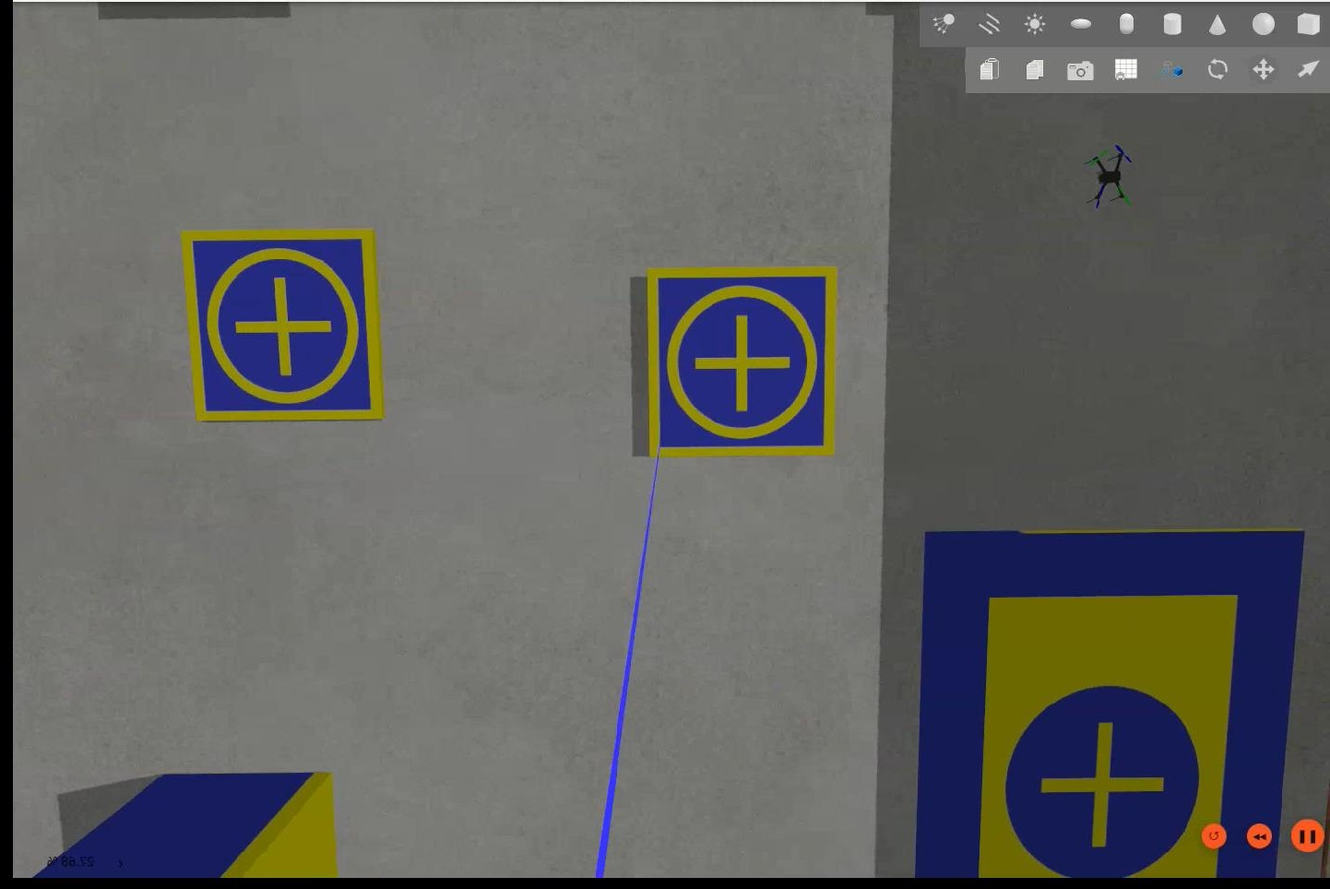large_base: (919, 525, 1307, 889)
small_base: (177, 225, 388, 426), (636, 262, 841, 461)
